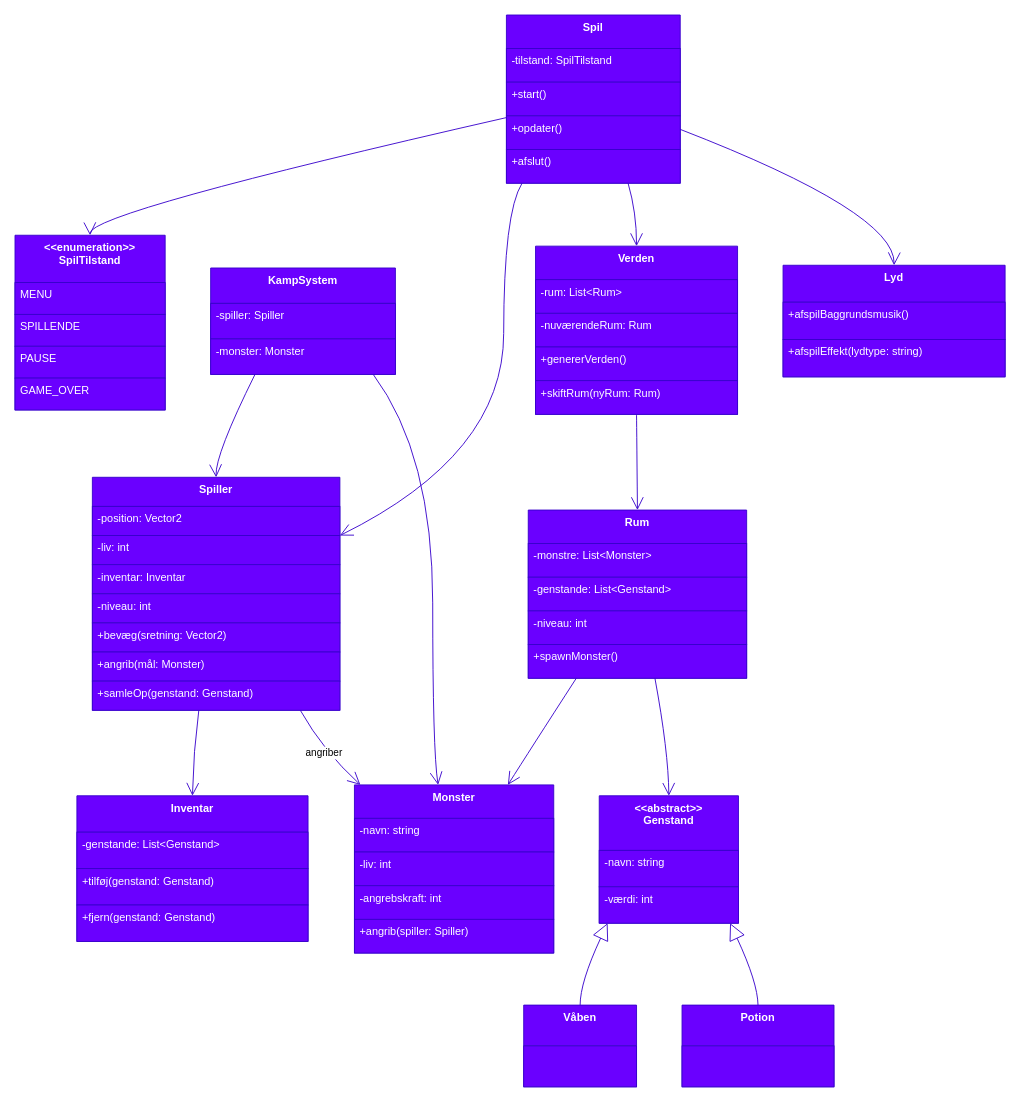
This 1020x1102 diagram has some shape labels left out. Here are the shapes that lost their labels. From the top down, the centre of each, then its label:
At (x=580, y=1066): "-skade: int".
At (x=757, y=1066): "-helbredelse: int".
